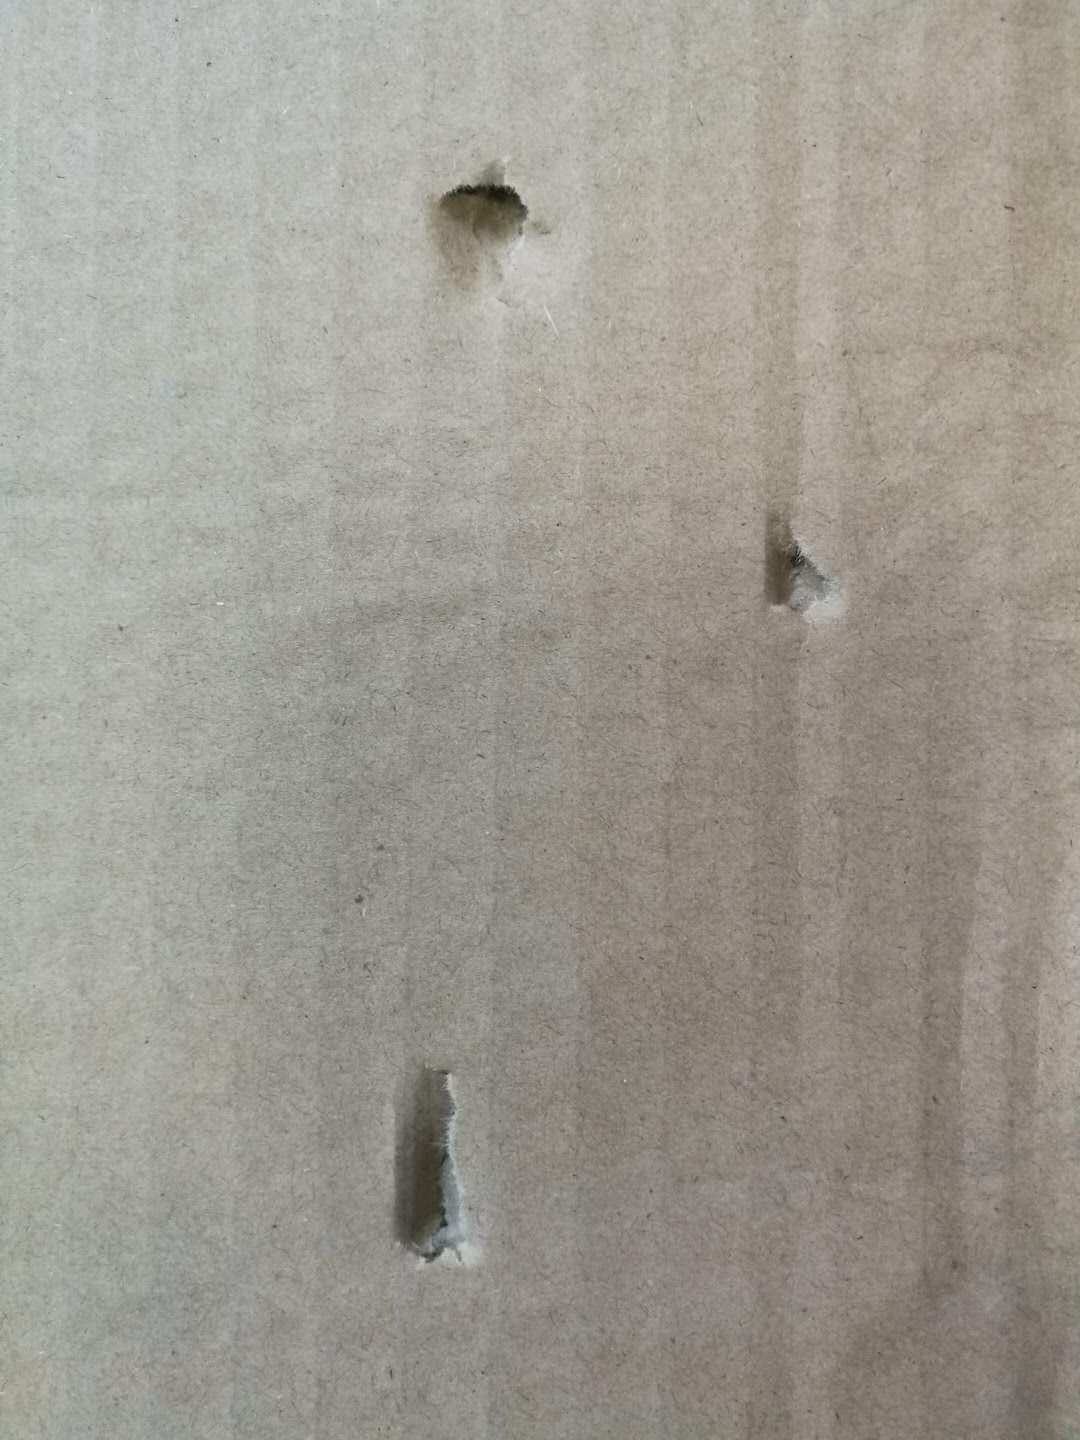defect: (399, 130, 580, 330), (357, 1036, 493, 1293), (726, 495, 866, 659)
